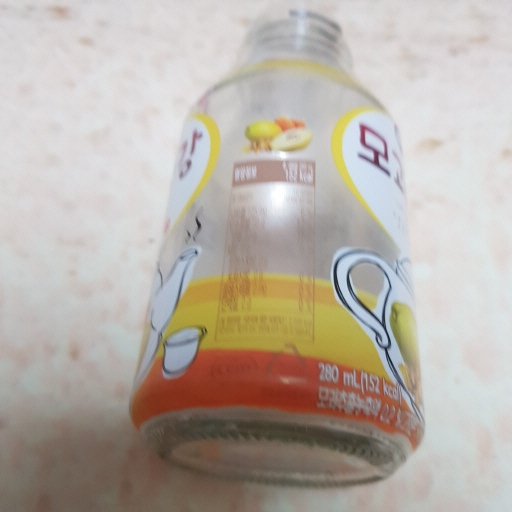Glass_4: (122, 6, 425, 487)
